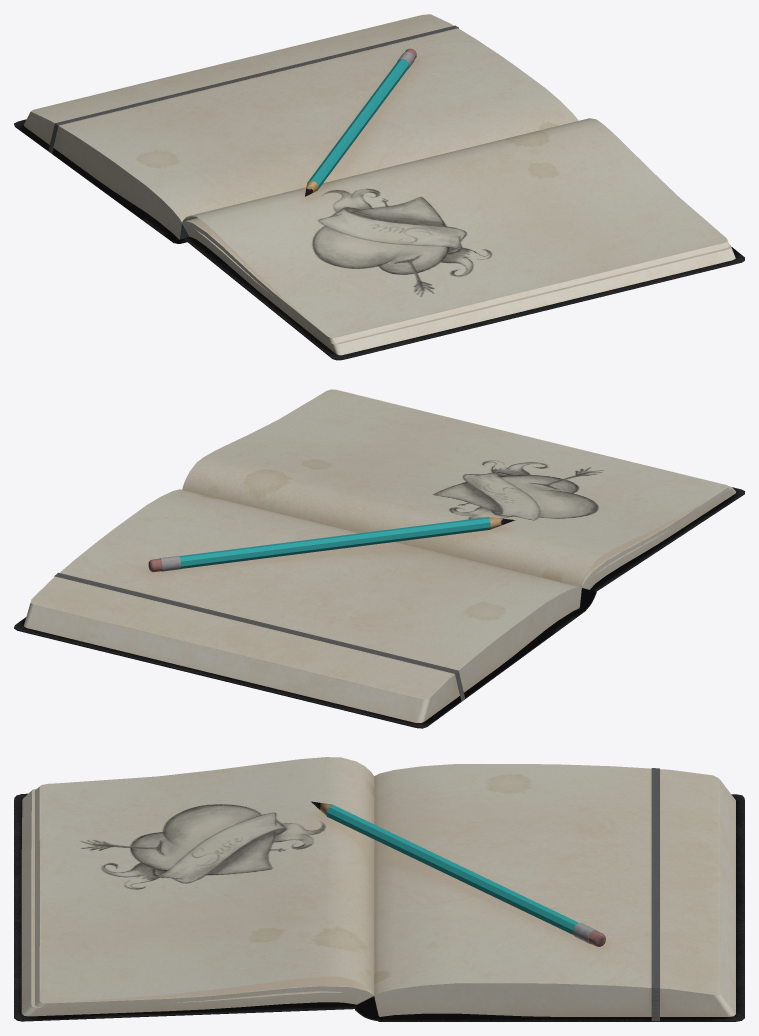
Rendered from note_diary.glb.
3 views of the same model, one above another, from view 1: azimuth 30°, elevation 25°; view 2: azimuth 150°, elevation 25°; view 3: azimuth 270°, elevation 25° (orthographic). The views are drawn at different scales.
Parts seen in each view (by area): view 1: polySurface7, left_paper, polySurface8, cover_mesh, polySurface6, pencil_mesh, elastic; view 2: left_paper, polySurface7, cover_mesh, pencil_mesh, elastic, polySurface6, polySurface8; view 3: left_paper, polySurface7, cover_mesh, polySurface8, polySurface6, pencil_mesh, elastic.
Boxes of the visible parts, x1,y1,x2,y2 form: polySurface7: (182, 118, 726, 337); left_paper: (24, 14, 578, 239); polySurface8: (185, 226, 735, 355); cover_mesh: (14, 119, 744, 360); polySurface6: (182, 218, 729, 343); pencil_mesh: (305, 48, 416, 196); elastic: (48, 25, 458, 153); left_paper: (23, 489, 581, 722); polySurface7: (182, 389, 727, 587); cover_mesh: (14, 487, 744, 728); pencil_mesh: (148, 517, 515, 572); elastic: (54, 572, 465, 701); polySurface6: (331, 389, 730, 588); polySurface8: (585, 486, 735, 589); left_paper: (374, 764, 735, 1016); polySurface7: (41, 757, 374, 1002); cover_mesh: (14, 793, 744, 1021); polySurface8: (21, 788, 367, 1016); polySurface6: (35, 785, 373, 1007); pencil_mesh: (311, 801, 605, 946); elastic: (651, 768, 659, 1021).
Bounding box in the file's own units: 22.05 × 2.5 × 30.
Materials: 2 (2 with a texture image).
